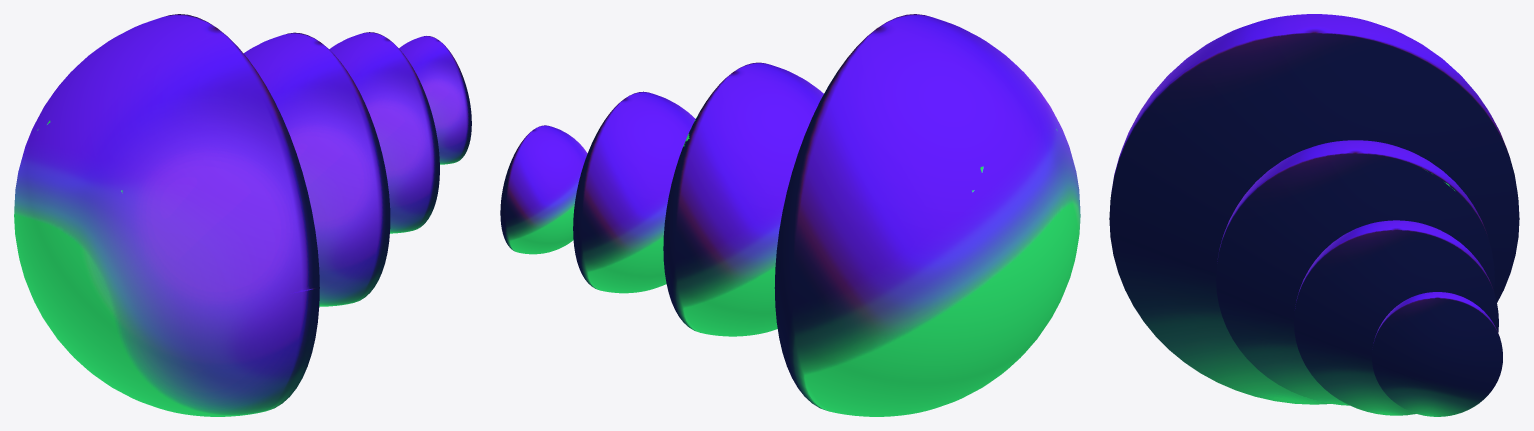
Rendered from halfdome.glb.
3 views of the same model, side by side, from view 1: azimuth 30°, elevation 25°; view 2: azimuth 150°, elevation 25°; view 3: azimuth 270°, elevation 25° (orthographic).
Parts seen in each view (by area): view 1: Sphere.005; view 2: Sphere.005; view 3: Sphere.005.
Part boxes in pixels (x1,y1,x2,y2): Sphere.005: [14, 14, 471, 416]; Sphere.005: [500, 14, 1080, 416]; Sphere.005: [1109, 14, 1519, 416].
Bounding box in the file's own units: 2.6 × 2 × 2.
1 material, 1 textured.
